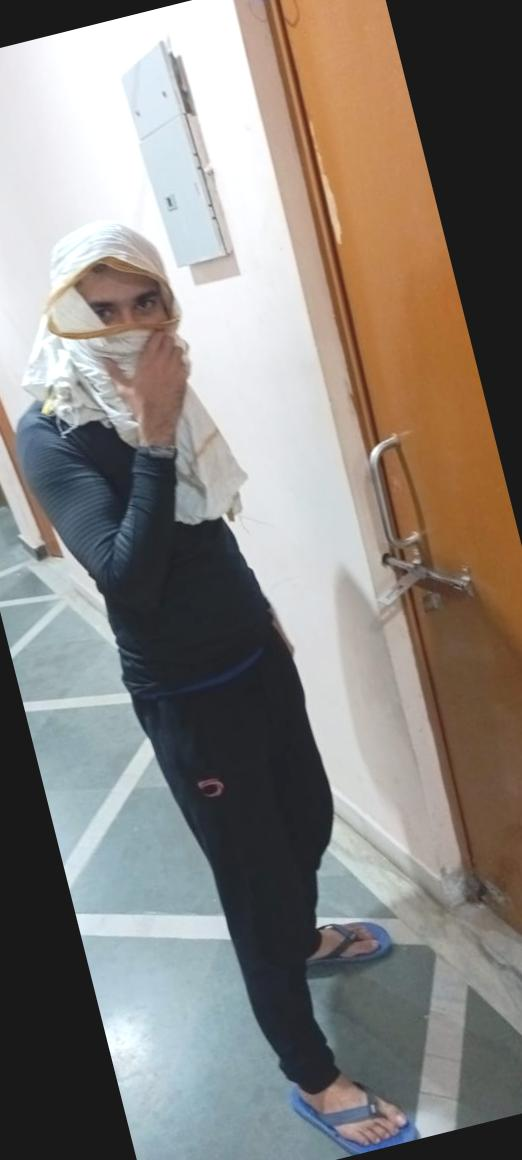suspicion: (0, 183, 476, 1160)
